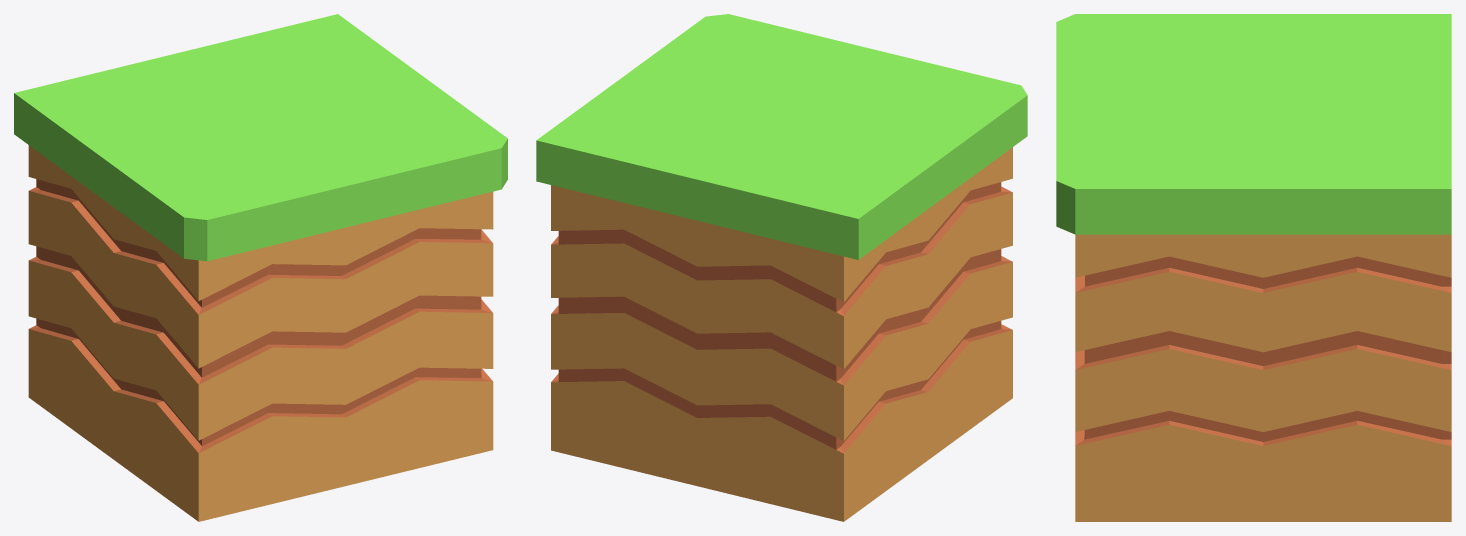
File: grass_tile2.fbx
3 views of the same model, side by side, from view 1: azimuth 30°, elevation 25°; view 2: azimuth 150°, elevation 25°; view 3: azimuth 270°, elevation 25° (orthographic). The views are drawn at different scales.
Visible parts, largest first — view 1: Mesh; view 2: Mesh; view 3: Mesh.
Part boxes in pixels (x1,y1,x2,y2): Mesh: (14, 14, 507, 521); Mesh: (536, 14, 1027, 521); Mesh: (1056, 14, 1451, 521).
Size of the model in its own units: 1.1 by 1 by 1.05.
